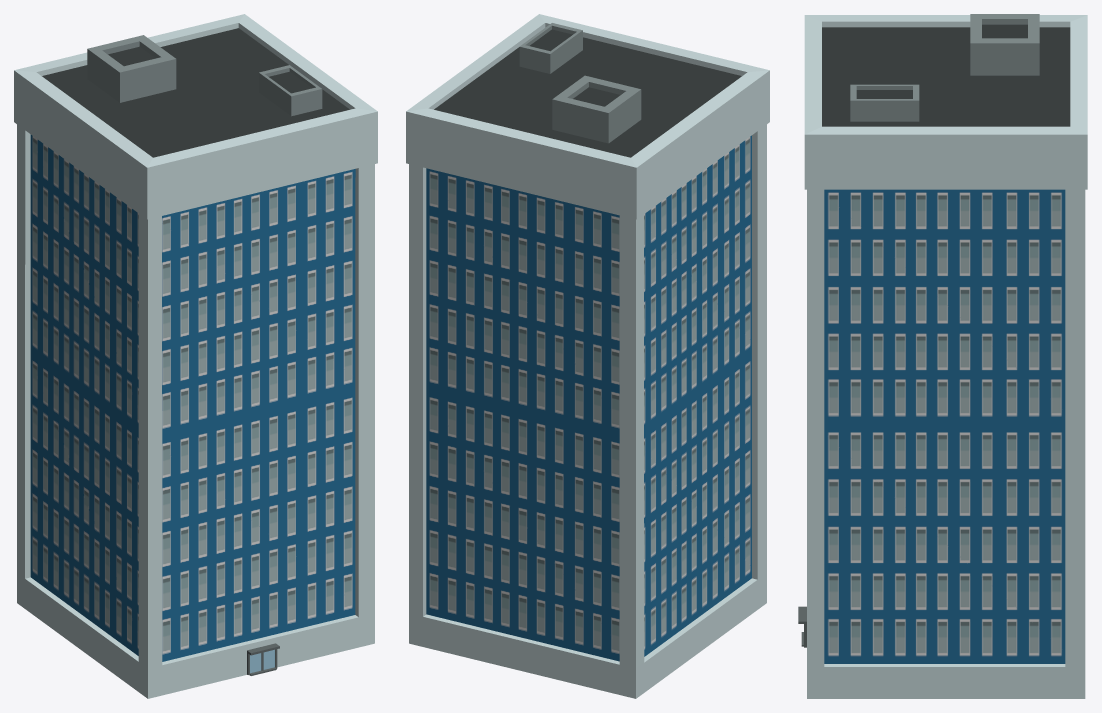
File: High Tower Medium.fbx
3 renders of one model, left to right at view 1: azimuth 30°, elevation 25°; view 2: azimuth 150°, elevation 25°; view 3: azimuth 270°, elevation 25°, orthographic. The views are drawn at different scales.
Parts seen in each view (by area): view 1: High Tower Medium; view 2: High Tower Medium; view 3: High Tower Medium.
Boxes of the visible parts, x1,y1,x2,y2 form: High Tower Medium: (14,14,377,698); High Tower Medium: (406,14,769,698); High Tower Medium: (798,14,1087,698).
Bounding box in the file's own units: 8.56 × 19.78 × 8.75.
